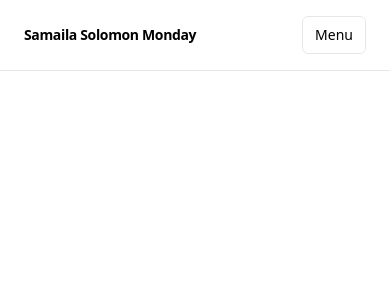
Test case: Navigation › closes mobile menu when a nav link is clicked
What coordinates should you click on to do the following:
click the button with aria-label "open menu"
I would click on:
 (334, 35)
Its box is [302,16,366,54].
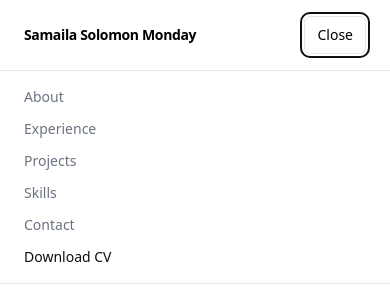
Expected: the element with id "mobile-menu" is shown
What coordinates should you click on to do the following:
click the link "About"
I would click on:
 (44, 96)
Its box is [24,87,64,106].
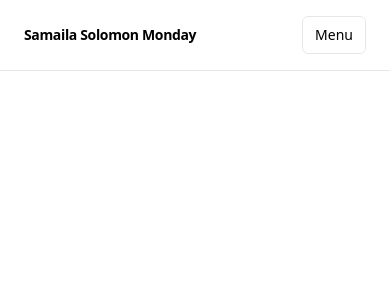
Expected: the element with id "mobile-menu" is gone
